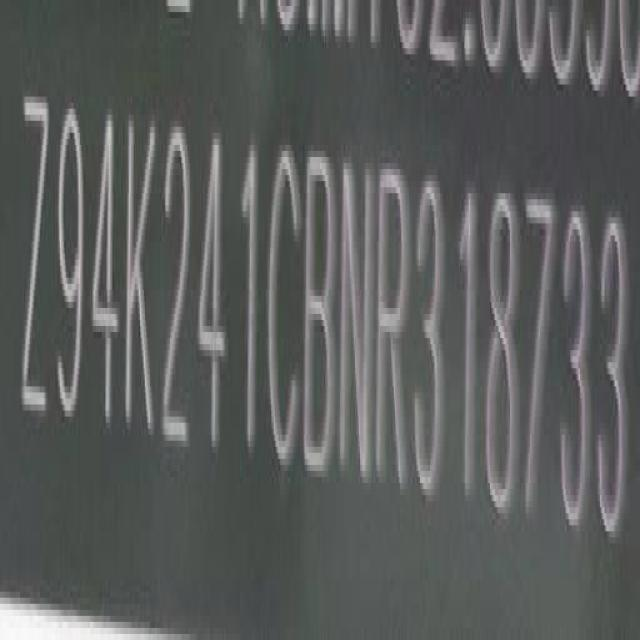1: (456, 182, 480, 514), (238, 132, 259, 472)
2: (162, 112, 194, 456)
3: (560, 195, 593, 542), (599, 204, 631, 545), (416, 170, 446, 509)
4: (197, 126, 230, 463), (91, 99, 122, 440)
7: (522, 185, 558, 530)
8: (486, 182, 518, 516)
9: (55, 99, 87, 434)
B: (304, 144, 336, 487)
C: (267, 135, 302, 482)
K: (123, 123, 158, 445)
M: (339, 148, 375, 492)
R: (374, 154, 411, 496)
Z: (19, 87, 52, 431)
